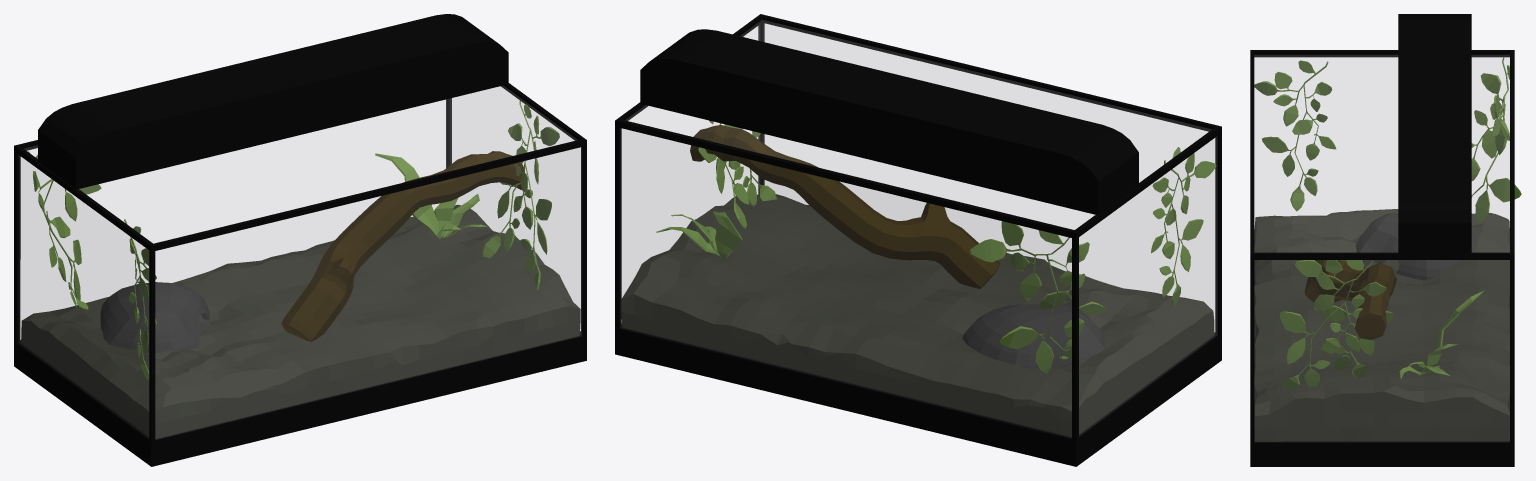
File: terrarium.fbx
3 views of the same model, side by side, from view 1: azimuth 30°, elevation 25°; view 2: azimuth 150°, elevation 25°; view 3: azimuth 270°, elevation 25° (orthographic). The views are drawn at different scales.
Parts seen in each view (by area): view 1: Glass, Substrate, Hood, Tank, Branch, Hide, Vine.002, Vine.001, Plant, Vine; view 2: Glass, Substrate, Hood, Tank, Branch, Hide, Vine.001, Vine, Vine.002, Plant; view 3: Glass, Substrate, Hood, Tank, Vine.002, Vine, Branch, Vine.001, Hide, Plant.
Part boxes in pixels (box(x1,y1,x2,y2)): Glass: box(19, 86, 581, 438); Substrate: box(21, 204, 580, 438); Hood: box(38, 14, 508, 189); Tank: box(14, 83, 586, 466); Branch: box(281, 151, 524, 341); Hide: box(100, 282, 209, 353); Vine.002: box(483, 100, 559, 289); Vine.001: box(28, 151, 101, 309); Plant: box(375, 153, 487, 239); Vine: box(124, 219, 156, 380); Glass: box(621, 20, 1216, 437); Substrate: box(621, 194, 1214, 436); Hood: box(640, 29, 1138, 215); Tank: box(615, 14, 1221, 466); Branch: box(690, 125, 1000, 288); Hide: box(962, 303, 1104, 368); Vine.001: box(970, 221, 1106, 373); Vine: box(1151, 147, 1216, 306); Vine.002: box(698, 120, 776, 228); Plant: box(656, 211, 742, 260); Glass: box(1254, 55, 1509, 441); Substrate: box(1254, 209, 1509, 441); Hood: box(1398, 14, 1471, 253); Tank: box(1250, 50, 1514, 466); Vine.002: box(1279, 260, 1393, 388); Vine: box(1254, 60, 1336, 211); Branch: box(1304, 260, 1396, 339); Vine.001: box(1471, 57, 1521, 223); Hide: box(1356, 213, 1477, 280); Plant: box(1399, 290, 1484, 378).
Bounding box in the file's own units: 819 × 485 × 459.
